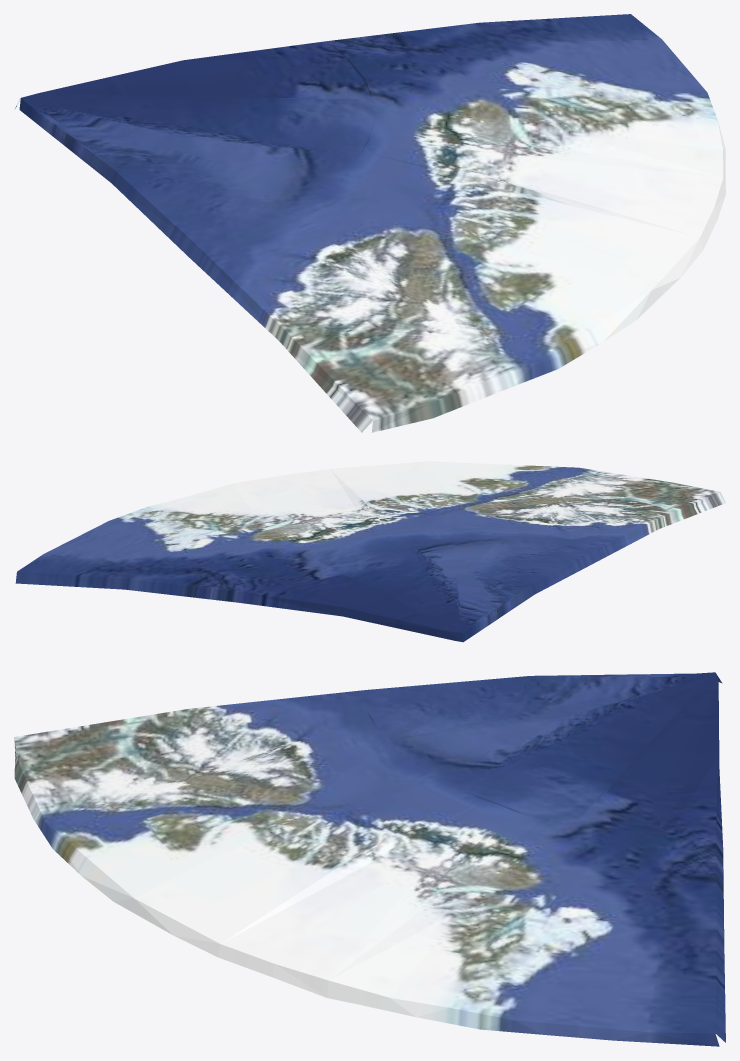
3 views of the same model, one above another, from view 1: azimuth 30°, elevation 25°; view 2: azimuth 150°, elevation 25°; view 3: azimuth 270°, elevation 25° (orthographic). The views are drawn at different scales.
Size of the model in its own units: 1273562 by 153227 by 1269525.
Materials: 1 (1 with a texture image).
